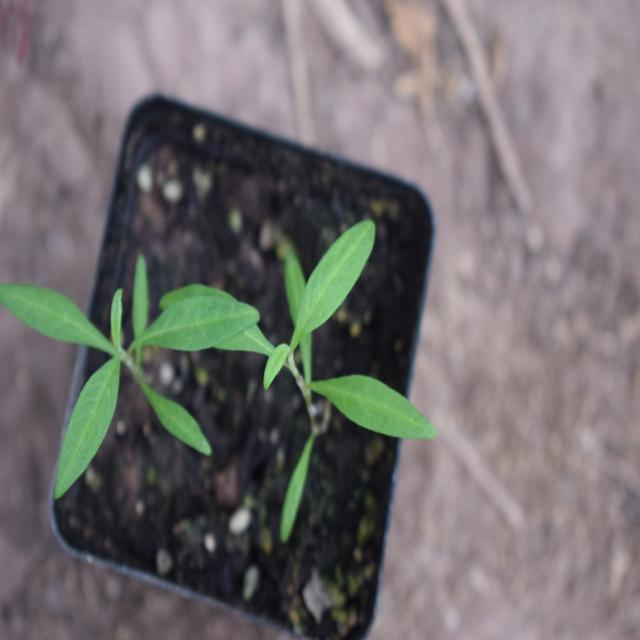white_smart_weed: (3, 209, 261, 484), (256, 202, 456, 502)
